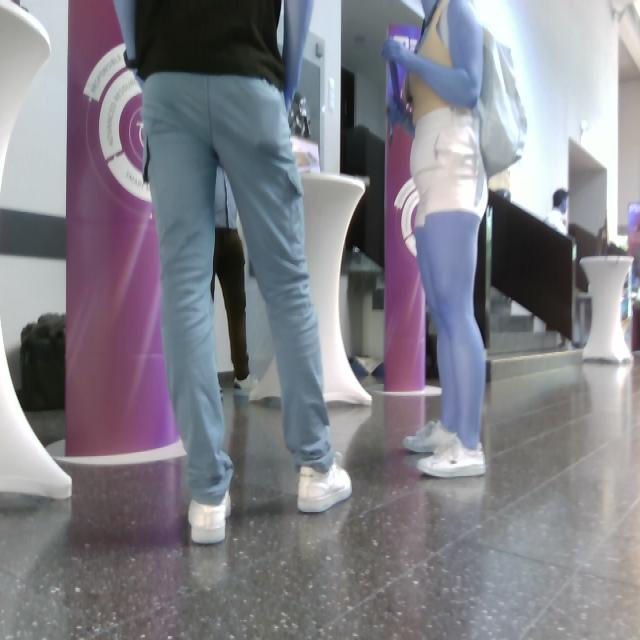chair: (248, 172, 373, 408)
light bulb: (1, 1, 73, 501)
person: (113, 1, 353, 546), (382, 1, 490, 480), (212, 165, 251, 390)
pillar: (64, 1, 188, 465), (383, 24, 427, 393)
tiled floor: (1, 345, 639, 638)
